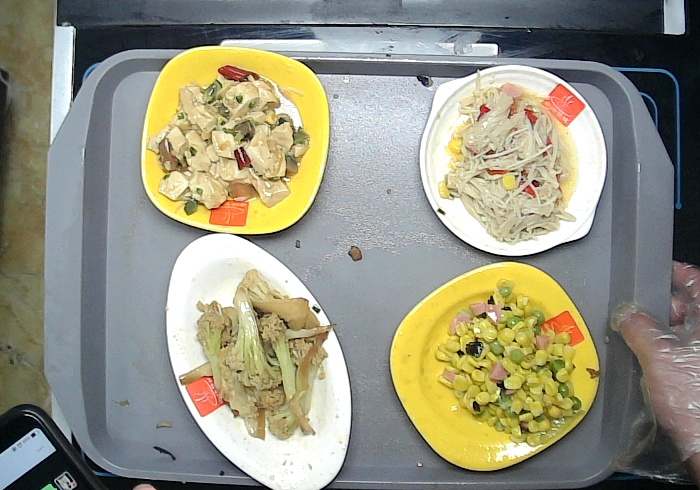SHKJ-Bao_Yu_Pan: (412, 61, 609, 257)
SHKJ-Huang_Se_Cai_Die: (134, 47, 332, 232)
SHKJ-Huang_Se_Si_Fang_Cai_Die: (388, 260, 606, 475)
SHKJ-Yu_Pan: (166, 231, 360, 489)
